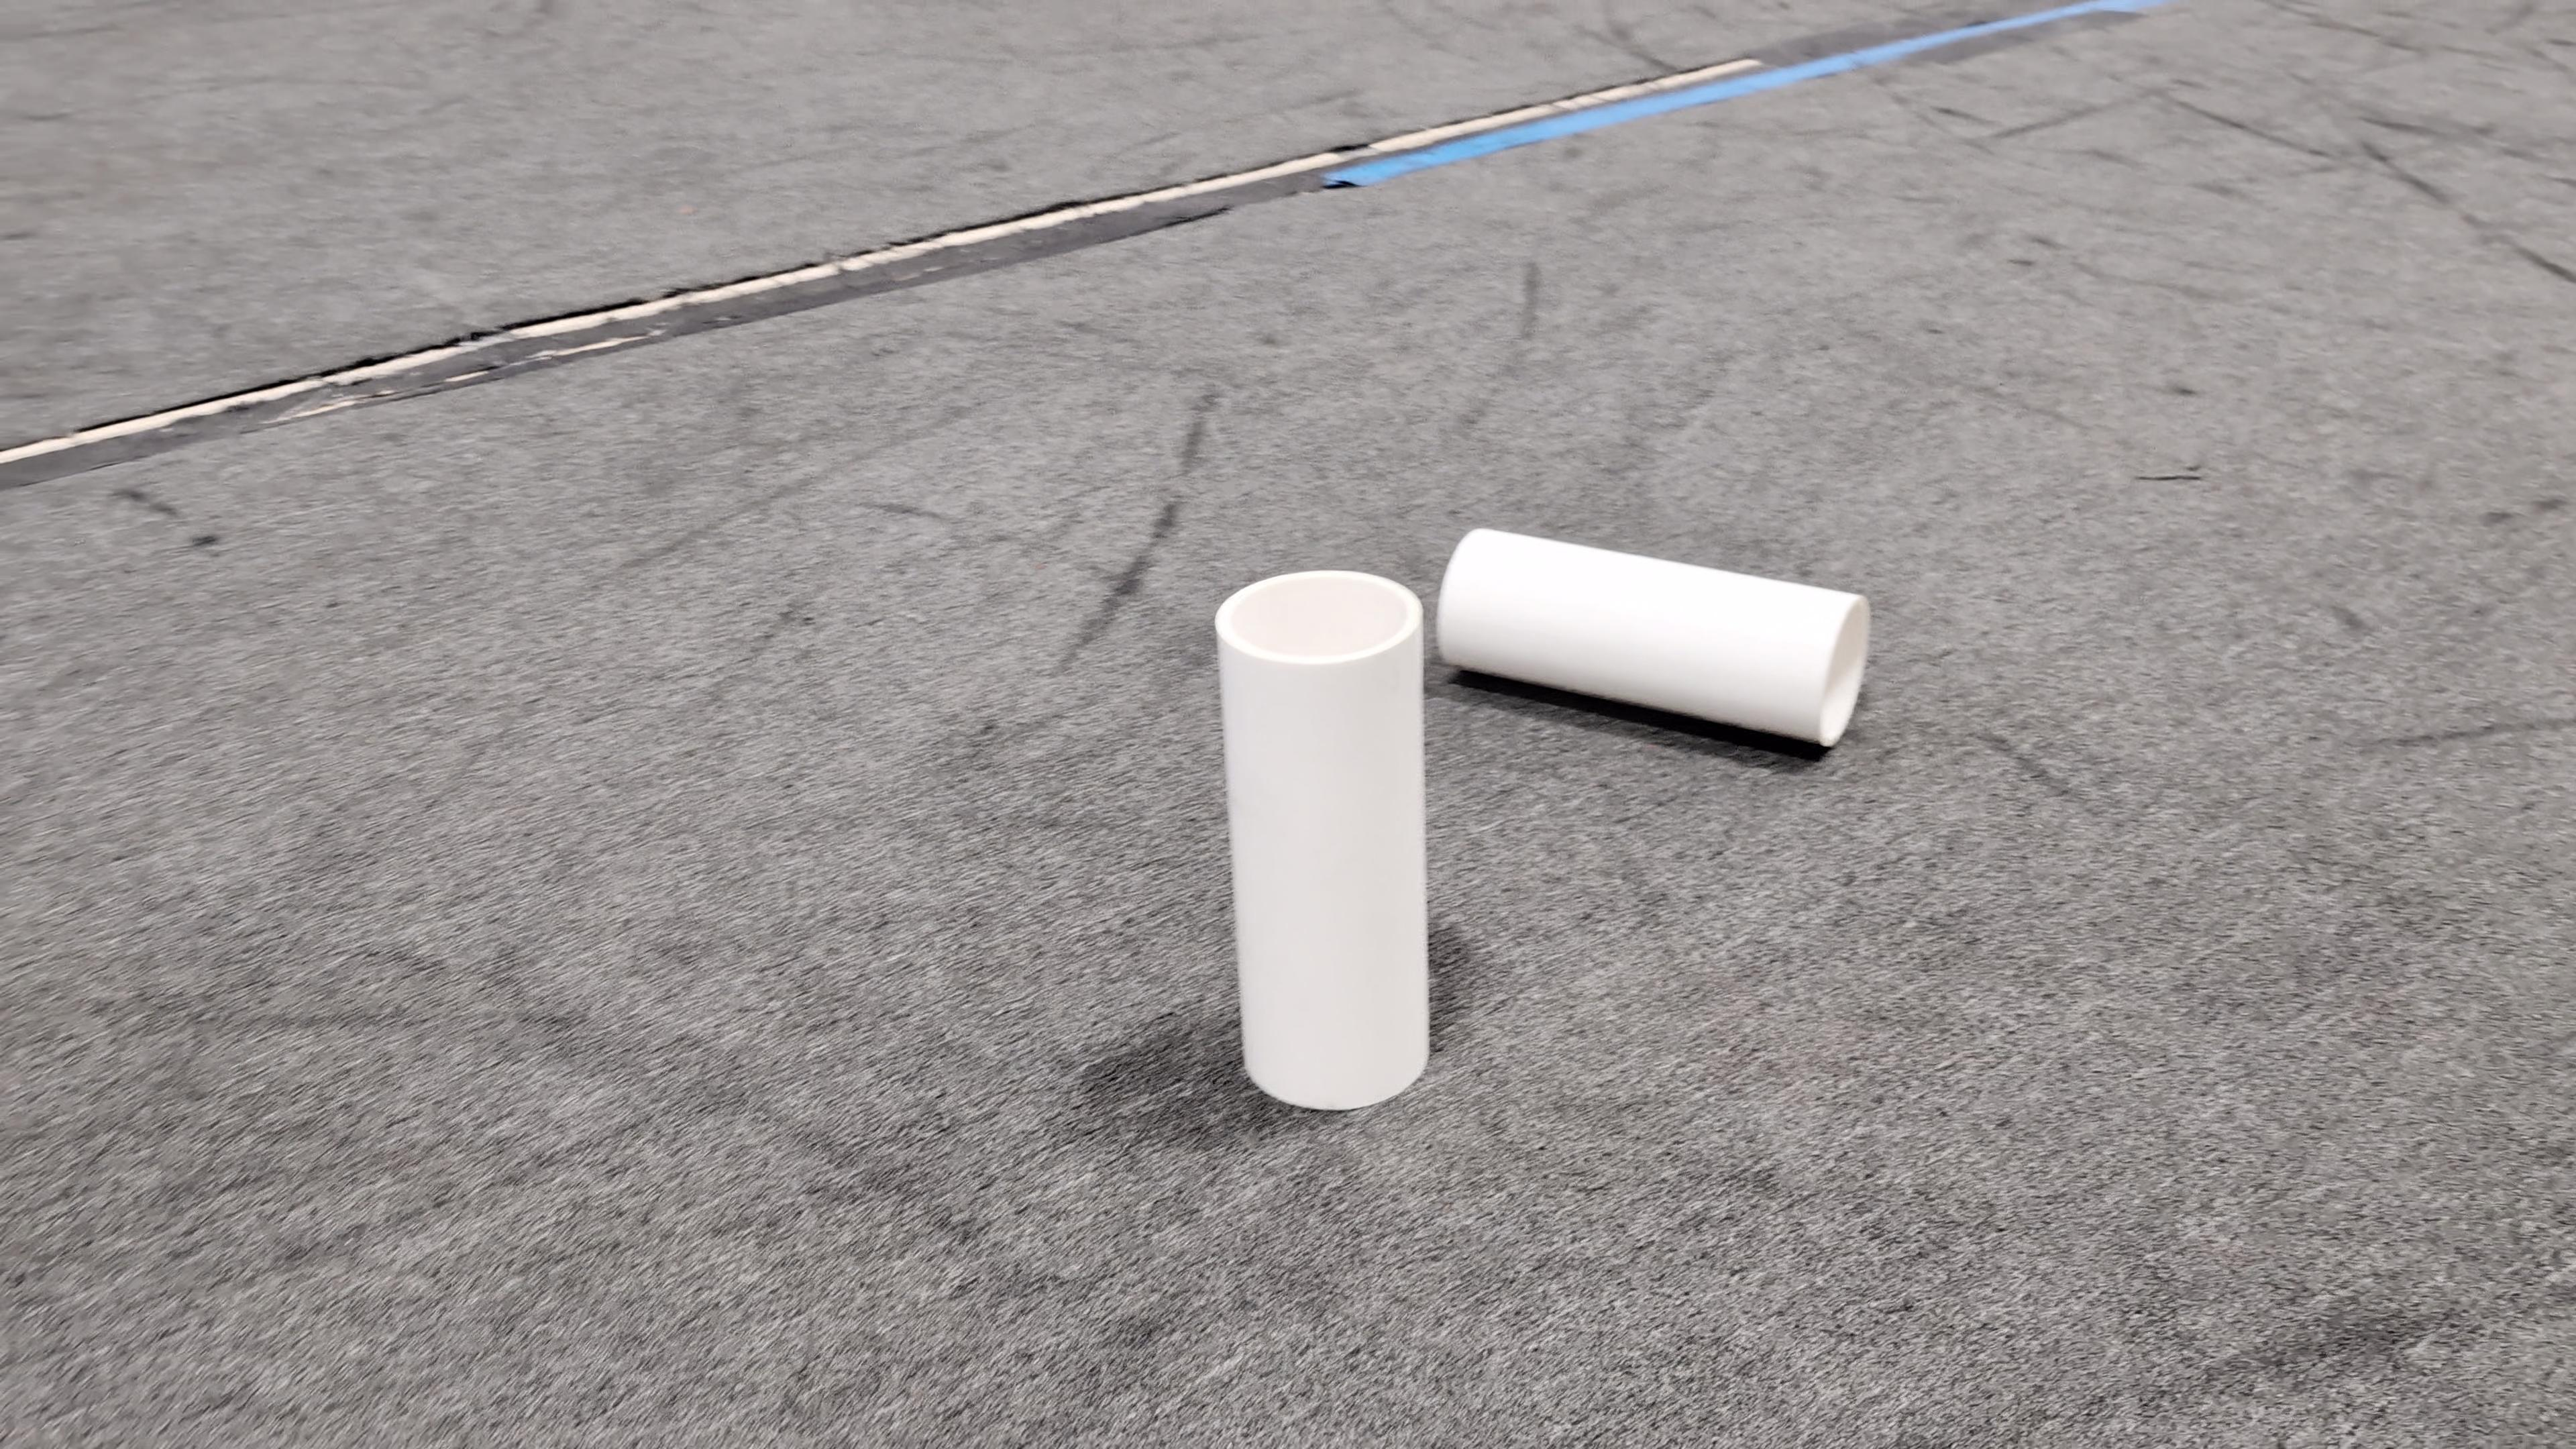coral: (1208, 571, 1433, 1108), (1435, 522, 1872, 750)
